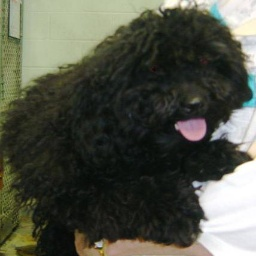dog: (3, 4, 256, 244)
